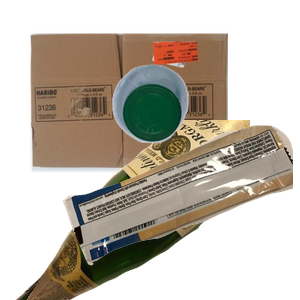cardboard: (28, 31, 249, 195)
glass: (13, 120, 253, 300)
plastic: (110, 62, 300, 198)
trash: (60, 123, 300, 300)
